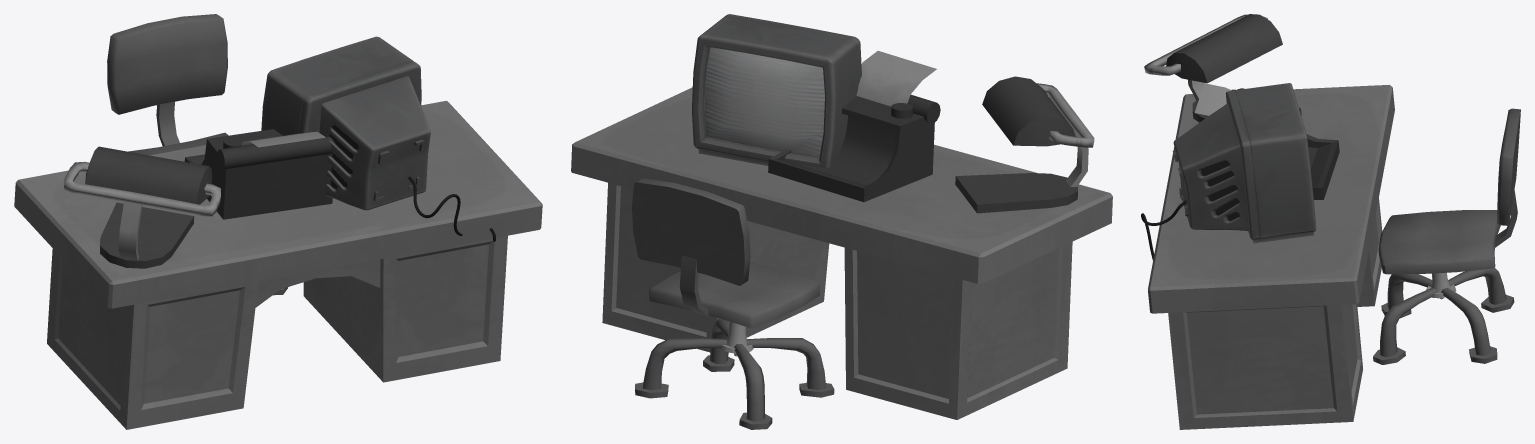
Rendered from Desk3.fbx.
The picture shows the model from 3 angles, left to right: view 1: azimuth 30°, elevation 25°; view 2: azimuth 150°, elevation 25°; view 3: azimuth 270°, elevation 25°; orthographic projection. The views are drawn at different scales.
Visible parts, largest first — view 1: Desk, desk12, desk10, OfficeChair (2), tvBottom, tvScreen (4), typeMachineBase1, deskLamp4, deskLampBase, deskLamp2, typeMachine7, desk11 (+3 smaller); view 2: Desk, desk12, OfficeChair (2), tvScreen (4), desk10, typeMachineBase1, deskLamp4, deskLampBase, typeMachine8, deskLamp2, typeMachine7, deskLamp1; view 3: Desk, desk10, OfficeChair (2), tvScreen (4), tvBottom, deskLamp4, typeMachineBase1, desk12, deskLamp2, typeMachine8.
Boxes of the visible parts, left/top/right/bottom form: Desk: left=14, top=100, right=542, bottom=308; desk12: left=47, top=248, right=258, bottom=429; desk10: left=303, top=235, right=507, bottom=382; OfficeChair (2): left=107, top=14, right=287, bottom=295; tvBottom: left=319, top=76, right=430, bottom=210; tvScreen (4): left=261, top=36, right=421, bottom=135; typeMachineBase1: left=184, top=129, right=332, bottom=219; deskLamp4: left=85, top=146, right=212, bottom=204; deskLampBase: left=100, top=202, right=194, bottom=268; deskLamp2: left=64, top=161, right=220, bottom=216; typeMachine7: left=217, top=136, right=335, bottom=170; desk11: left=255, top=259, right=380, bottom=307; Desk: left=571, top=87, right=1112, bottom=283; desk12: left=844, top=242, right=1072, bottom=419; OfficeChair (2): left=632, top=178, right=834, bottom=429; tvScreen (4): left=692, top=14, right=861, bottom=167; desk10: left=602, top=182, right=829, bottom=352; typeMachineBase1: left=768, top=96, right=934, bottom=202; deskLamp4: left=982, top=76, right=1075, bottom=146; deskLampBase: left=955, top=173, right=1077, bottom=213; typeMachine8: left=856, top=50, right=936, bottom=106; deskLamp2: left=1037, top=83, right=1094, bottom=147; typeMachine7: left=907, top=94, right=940, bottom=123; deskLamp1: left=1066, top=131, right=1088, bottom=187; Desk: left=1148, top=84, right=1394, bottom=313; desk10: left=1168, top=304, right=1362, bottom=429; OfficeChair (2): left=1373, top=108, right=1520, bottom=364; tvScreen (4): left=1225, top=83, right=1316, bottom=243; tvBottom: left=1173, top=103, right=1248, bottom=230; deskLamp4: left=1166, top=14, right=1282, bottom=83; typeMachineBase1: left=1306, top=134, right=1339, bottom=199; desk12: left=1357, top=198, right=1382, bottom=306; deskLamp2: left=1144, top=14, right=1267, bottom=75; typeMachine8: left=1194, top=83, right=1231, bottom=115.
Bounding box in the file's own units: 624 × 390 × 496.
Materials: 2 (2 with a texture image).
